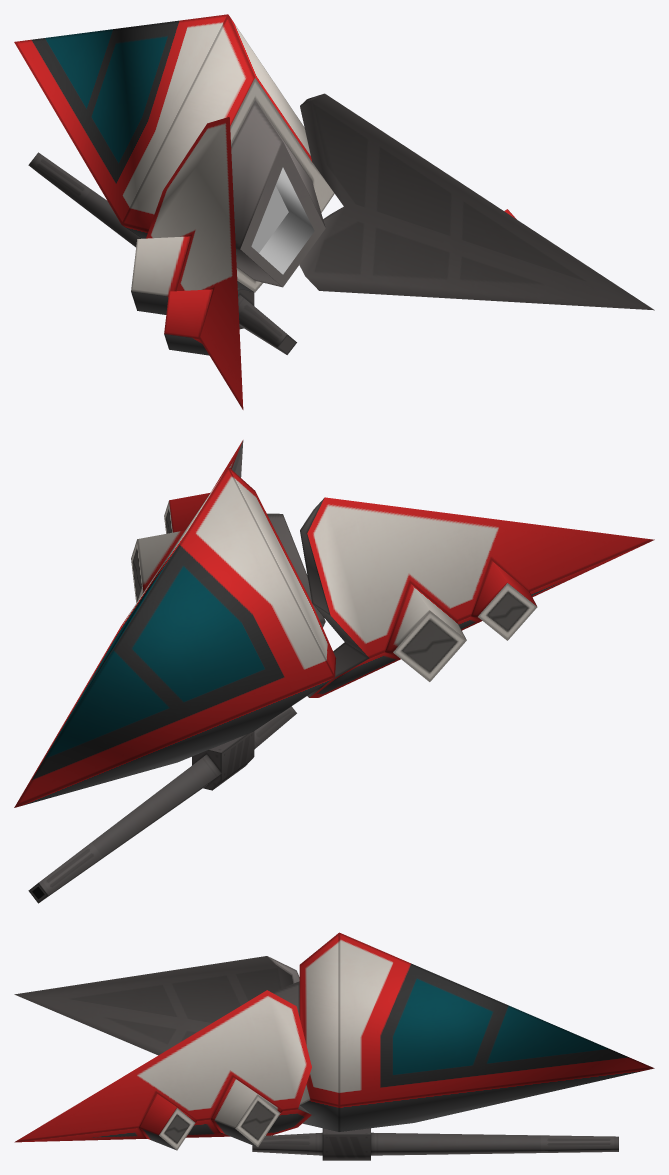
The model's file is ShipFighterB.fbx.
The picture shows the model from 3 angles, top to bottom: view 1: azimuth 30°, elevation 25°; view 2: azimuth 150°, elevation 25°; view 3: azimuth 270°, elevation 25°; orthographic projection. The views are drawn at different scales.
Visible parts, largest first — view 1: Empty_Mesh; view 2: Empty_Mesh; view 3: Empty_Mesh.
Boxes of the visible parts, left/top/right/bottom form: Empty_Mesh: left=14, top=14, right=654, bottom=409; Empty_Mesh: left=14, top=440, right=654, bottom=903; Empty_Mesh: left=14, top=932, right=654, bottom=1160.
Bounding box in the file's own units: 0.5544 × 0.395 × 1.02.
